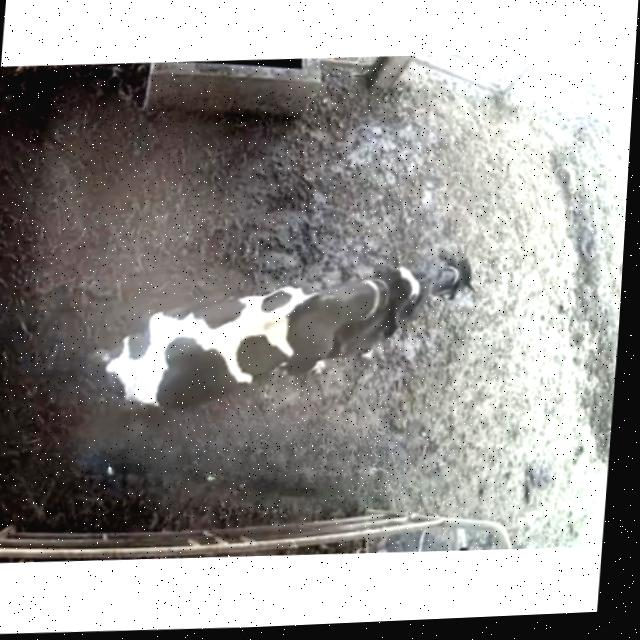ride: (57, 255, 437, 437)
